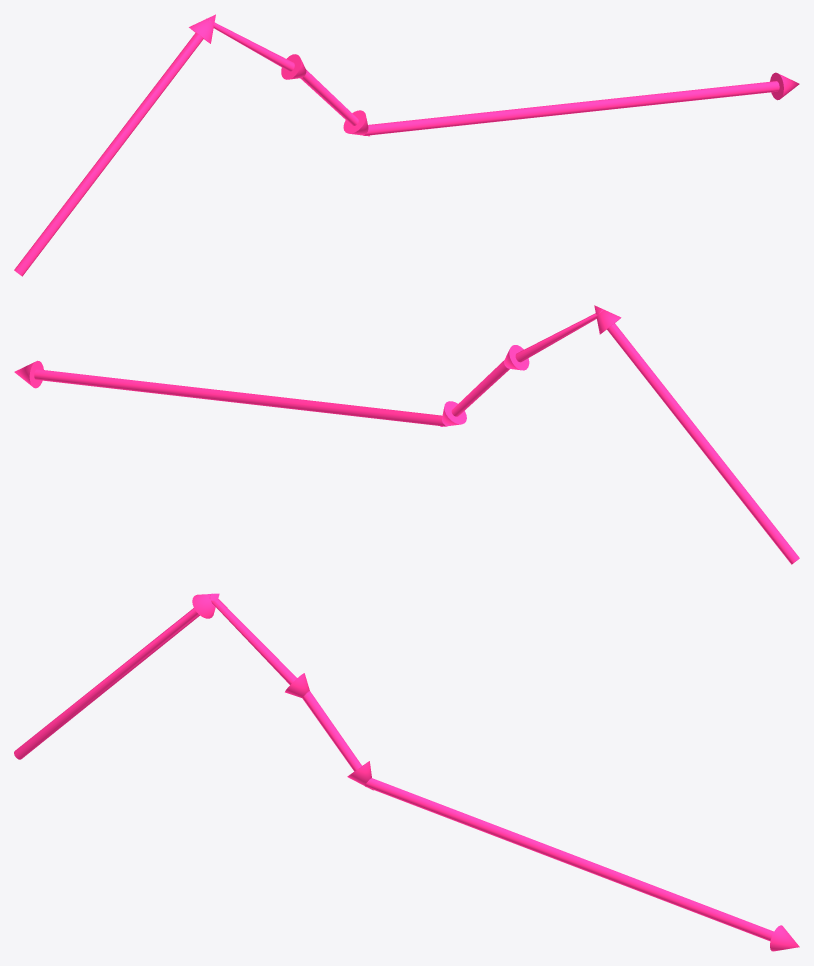
File: torsional_coupling_flow.glb
3 renders of one model, top to bottom at view 1: azimuth 30°, elevation 25°; view 2: azimuth 150°, elevation 25°; view 3: azimuth 330°, elevation 25°, orthographic.
Parts seen in each view (by area): view 1: torque; view 2: torque; view 3: torque.
Part boxes in pixels (<box>): torque: <box>14,14,799,276</box>; torque: <box>14,305,799,564</box>; torque: <box>14,593,799,951</box>.
Bounding box in the file's own units: 1.02 × 0.2717 × 0.0351.
